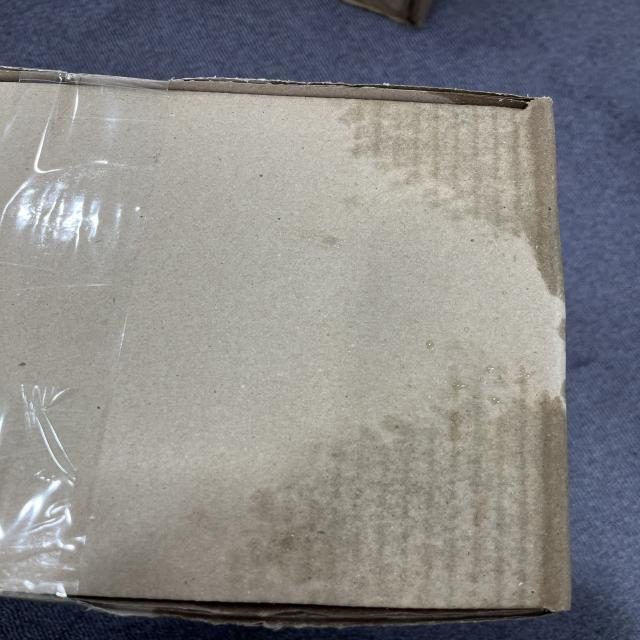wet: (260, 400, 562, 606), (341, 99, 586, 296)
